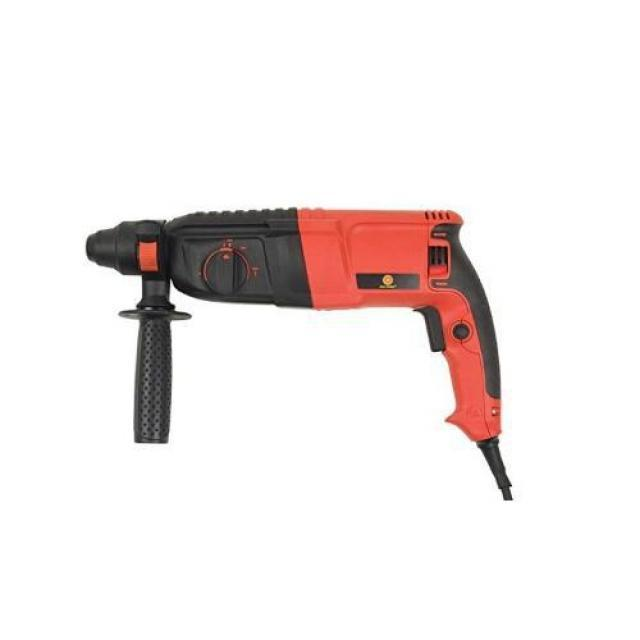drill: (83, 206, 516, 502)
